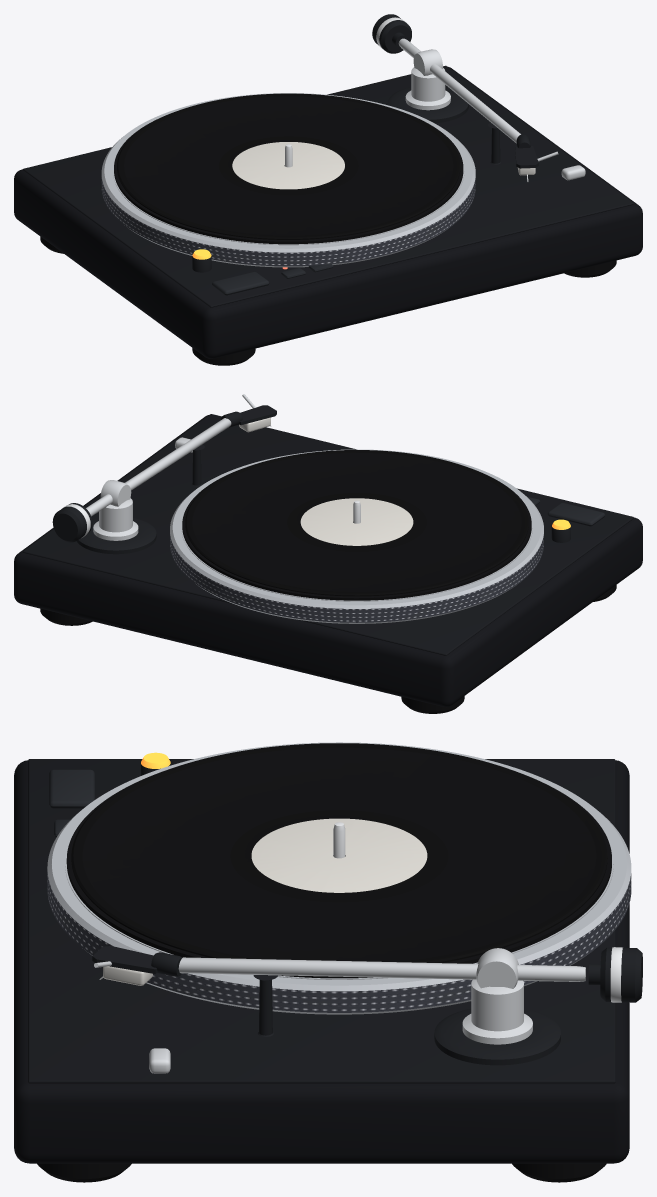
Rendered from turntable.glb.
3 views of the same model, one above another, from view 1: azimuth 30°, elevation 25°; view 2: azimuth 150°, elevation 25°; view 3: azimuth 270°, elevation 25° (orthographic). The views are drawn at different scales.
Parts seen in each view (by area): view 1: RecordDisc, Plinth, Deck, PlatterBody, ArmBase, Mat, ArmTube, Counterweight, StartStop, Foot0, Gimbal; view 2: RecordDisc, Plinth, Deck, PlatterBody, ArmBase, Mat, ArmTube, Counterweight, StartStop, Gimbal, Foot2, Shell (+1 smaller); view 3: RecordDisc, Plinth, Deck, PlatterBody, ArmBase, ArmTube, Mat, Counterweight, StartStop, Gimbal, Foot1, Foot3 (+4 smaller).
Boxes of the visible parts, left/top/right/bottom form: RecordDisc: left=117, top=93, right=460, bottom=239; Plinth: left=14, top=67, right=642, bottom=358; Deck: left=23, top=65, right=633, bottom=307; PlatterBody: left=101, top=93, right=475, bottom=267; ArmBase: left=387, top=67, right=468, bottom=123; Mat: left=114, top=114, right=463, bottom=244; ArmTube: left=398, top=38, right=520, bottom=143; Counterweight: left=372, top=14, right=411, bottom=53; StartStop: left=212, top=271, right=269, bottom=295; Foot0: left=192, top=348, right=255, bottom=365; Gimbal: left=413, top=49, right=442, bottom=75; RecordDisc: left=185, top=450, right=528, bottom=596; Plinth: left=14, top=415, right=642, bottom=707; Deck: left=23, top=414, right=633, bottom=655; PlatterBody: left=170, top=449, right=543, bottom=623; ArmBase: left=76, top=498, right=156, bottom=554; Mat: left=182, top=471, right=531, bottom=600; ArmTube: left=86, top=418, right=231, bottom=516; Counterweight: left=52, top=503, right=92, bottom=542; StartStop: left=547, top=502, right=604, bottom=526; Gimbal: left=100, top=480, right=131, bottom=506; Foot2: left=401, top=696, right=464, bottom=713; Shell: left=239, top=405, right=276, bottom=425; RecordDisc: left=71, top=743, right=607, bottom=962; Plinth: left=14, top=760, right=629, bottom=1163; Deck: left=28, top=759, right=615, bottom=1083; PlatterBody: left=47, top=742, right=631, bottom=1014; ArmBase: left=434, top=979, right=560, bottom=1065; ArmTube: left=178, top=957, right=585, bottom=981; Mat: left=66, top=774, right=611, bottom=978; Counterweight: left=588, top=947, right=642, bottom=1002; StartStop: left=49, top=769, right=94, bottom=808; Gimbal: left=476, top=948, right=518, bottom=988; Foot1: left=37, top=1163, right=131, bottom=1182; Foot3: left=512, top=1163, right=606, bottom=1182.
Bounding box in the file's own units: 4.5 × 1.25 × 3.58.
15 materials, 1 textured.
